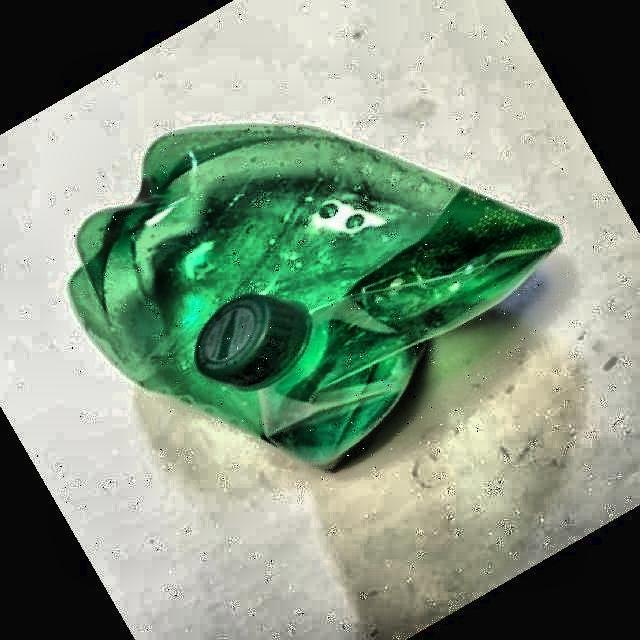plastic: (70, 125, 561, 466)
